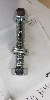FinishedAssembly: (9, 7, 37, 79)
